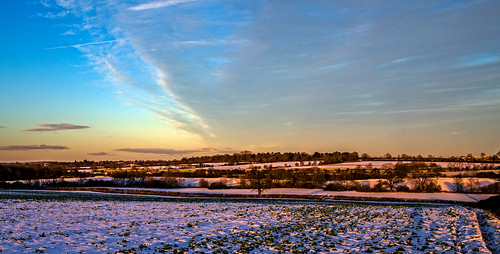sky: (9, 1, 500, 154)
